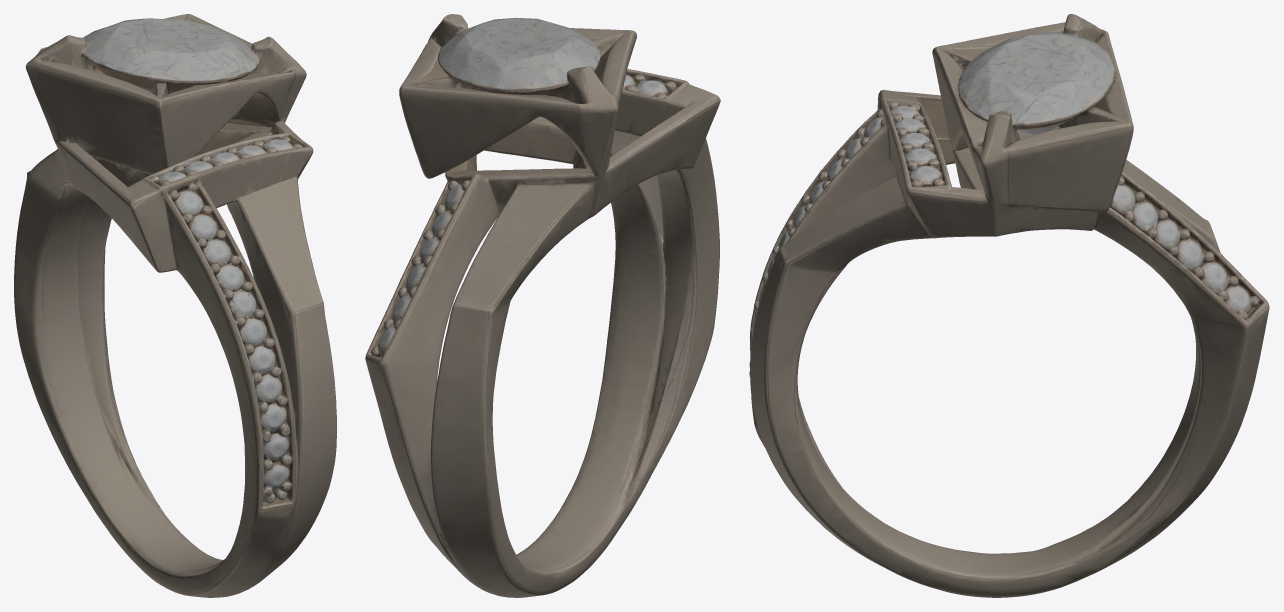
File: diamond-ring.glb
3 views of the same model, side by side, from view 1: azimuth 30°, elevation 25°; view 2: azimuth 150°, elevation 25°; view 3: azimuth 270°, elevation 25° (orthographic). The views are drawn at different scales.
Visible parts, largest first — view 1: aiprintgen_node_5d82c8a7-2bc5-4b73-9e6b-7a73274a0d7a; view 2: aiprintgen_node_5d82c8a7-2bc5-4b73-9e6b-7a73274a0d7a; view 3: aiprintgen_node_5d82c8a7-2bc5-4b73-9e6b-7a73274a0d7a.
Part boxes in pixels (x1,y1,x2,y2): aiprintgen_node_5d82c8a7-2bc5-4b73-9e6b-7a73274a0d7a: (14, 14, 336, 597); aiprintgen_node_5d82c8a7-2bc5-4b73-9e6b-7a73274a0d7a: (365, 14, 720, 597); aiprintgen_node_5d82c8a7-2bc5-4b73-9e6b-7a73274a0d7a: (749, 14, 1269, 597).
Size of the model in its own units: 0.4484 by 0.9999 by 0.8655.
1 material, 1 textured.
